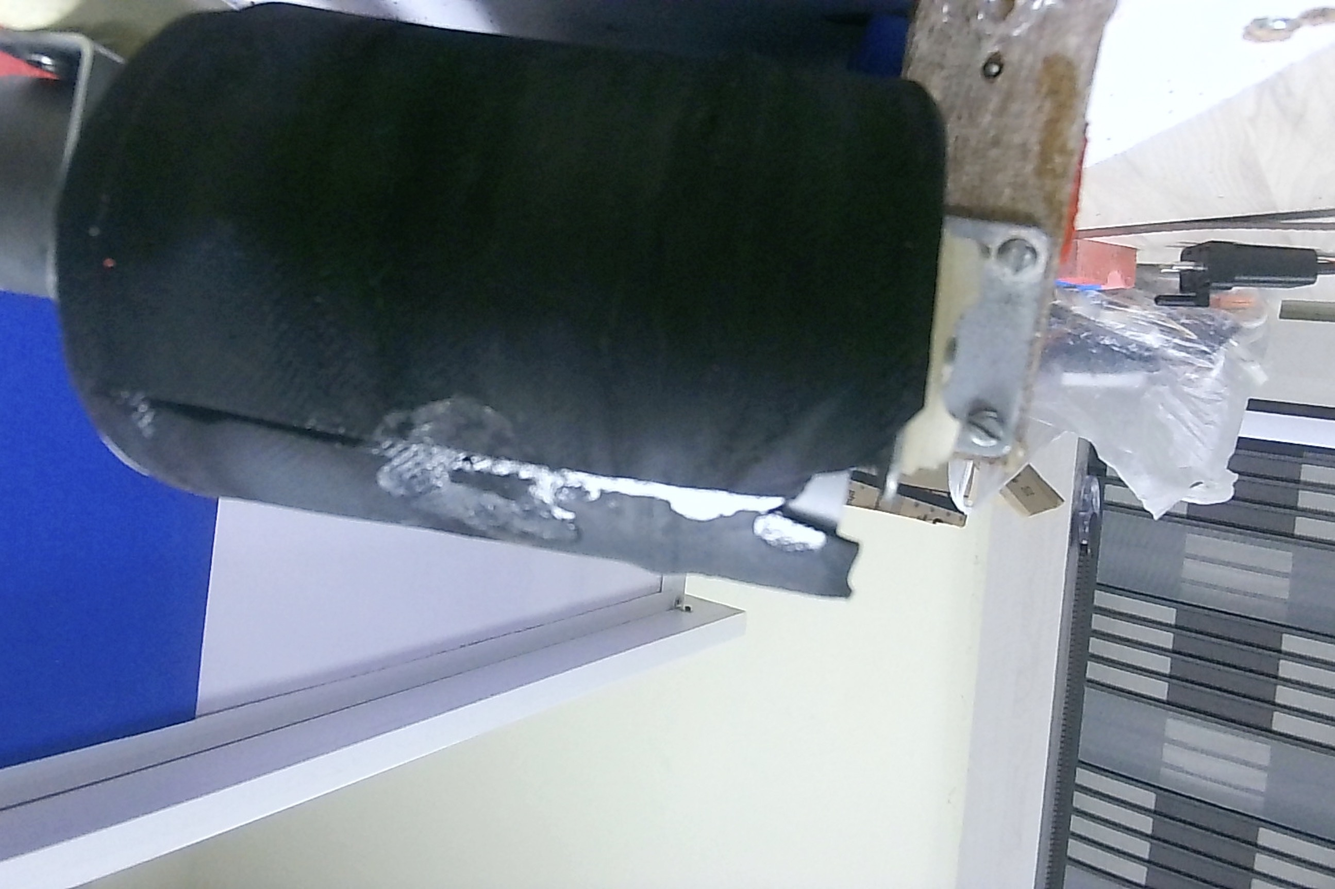joint_damage: (640, 420, 916, 589)
